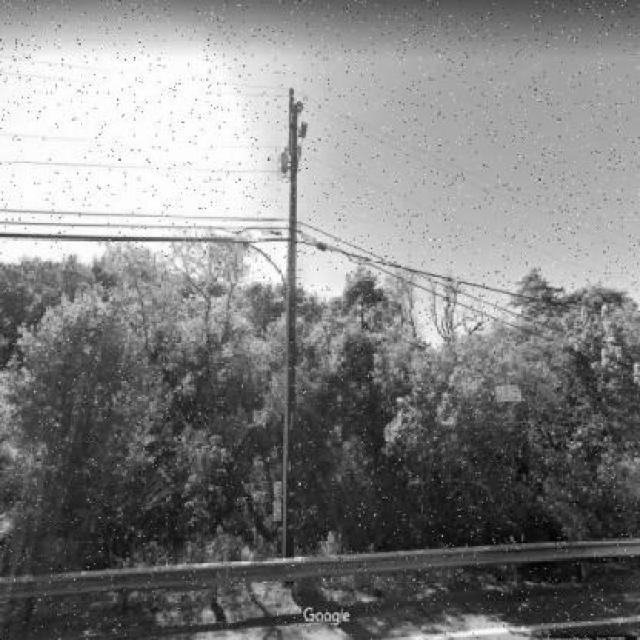pole: (253, 64, 324, 598)
